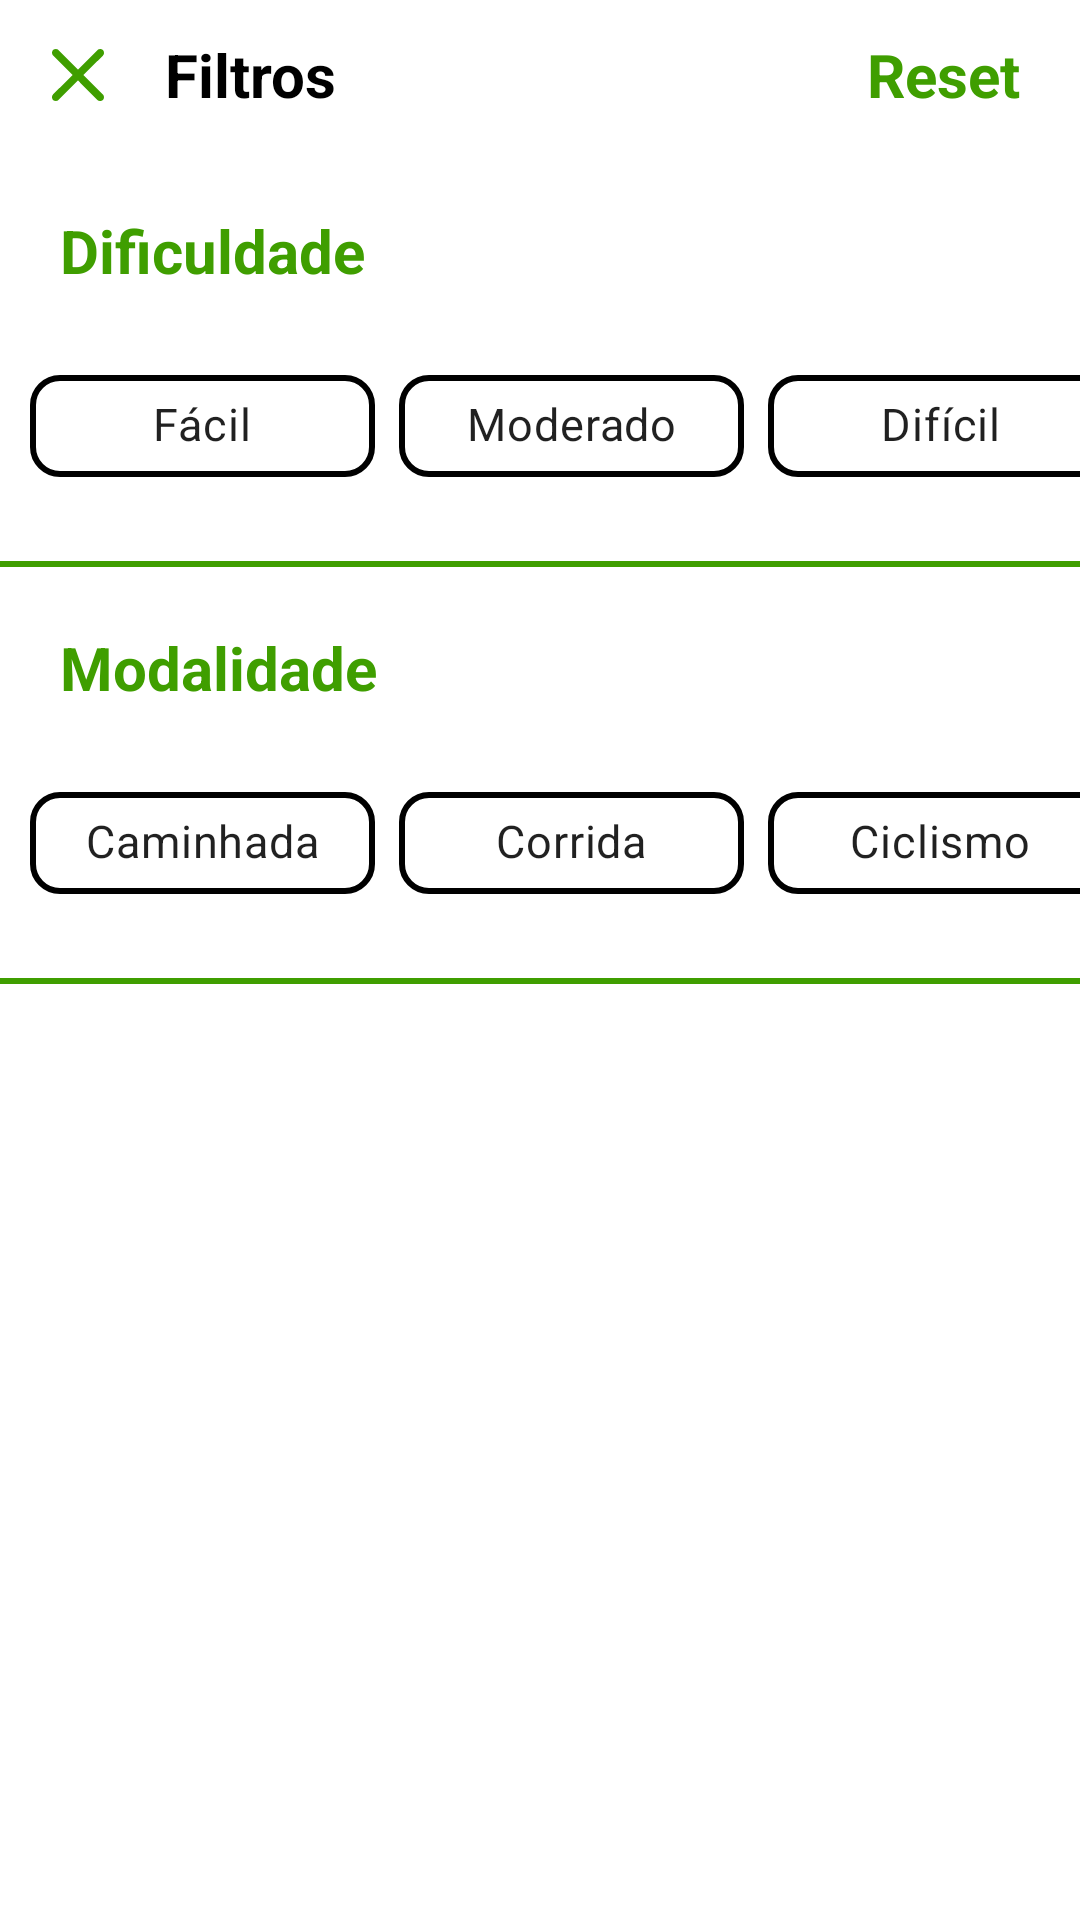

Icon bounding boxes for this 1080*1920 phone screenshot, format (x1, y1, x2, y2):
cross: (52, 49, 104, 101)
